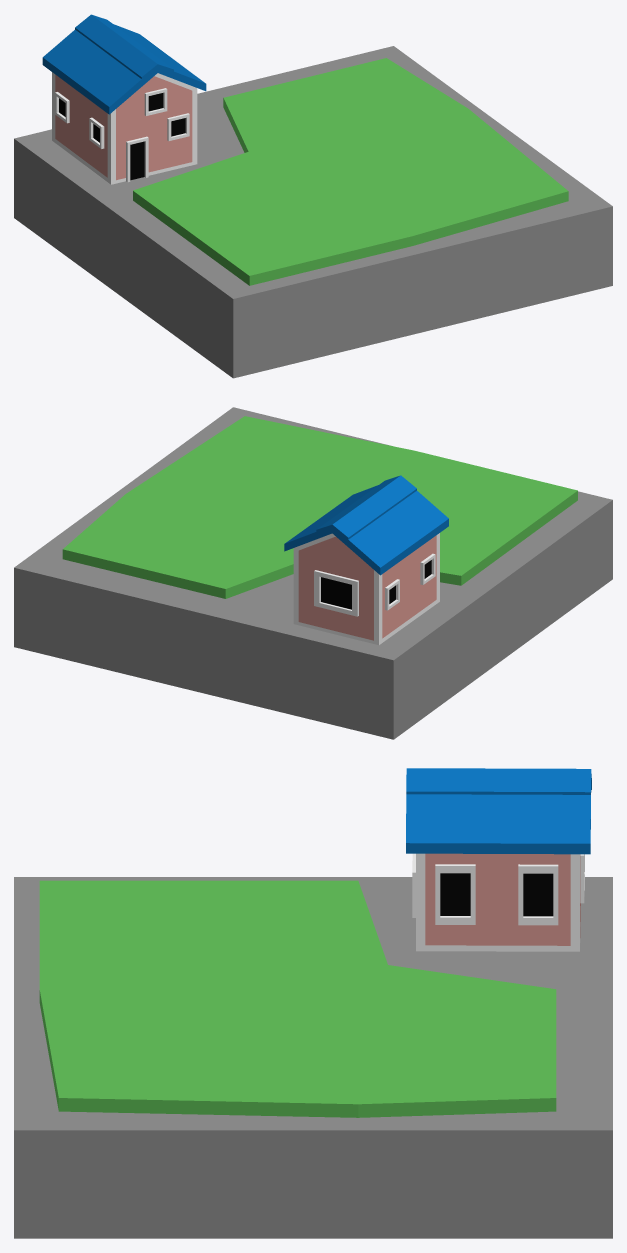
3 renders of one model, top to bottom at view 1: azimuth 30°, elevation 25°; view 2: azimuth 150°, elevation 25°; view 3: azimuth 270°, elevation 25°, orthographic. The views are drawn at different scales.
Visible parts, largest first — view 1: Mesh_1x1_V3, Mesh_1x1_V3.001; view 2: Mesh_1x1_V3, Mesh_1x1_V3.001; view 3: Mesh_1x1_V3, Mesh_1x1_V3.001.
Part boxes in pixels (<box>): Mesh_1x1_V3: <box>42,14,568,285</box>; Mesh_1x1_V3.001: <box>14,46,612,378</box>; Mesh_1x1_V3: <box>62,416,577,645</box>; Mesh_1x1_V3.001: <box>14,407,612,739</box>; Mesh_1x1_V3: <box>39,768,591,1117</box>; Mesh_1x1_V3.001: <box>14,877,612,1238</box>.
Size of the model in its own units: 100 by 48.44 by 100.
